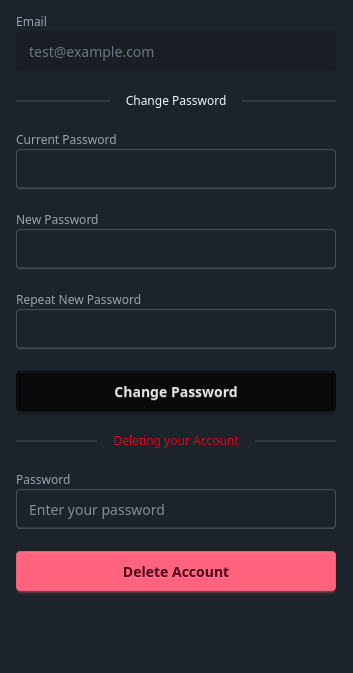
Test case: AccountPage › displays error when deleting account without password
(page scrolled)
Click the button "Delete Account".
click(176, 571)  # box [16, 551, 336, 591]
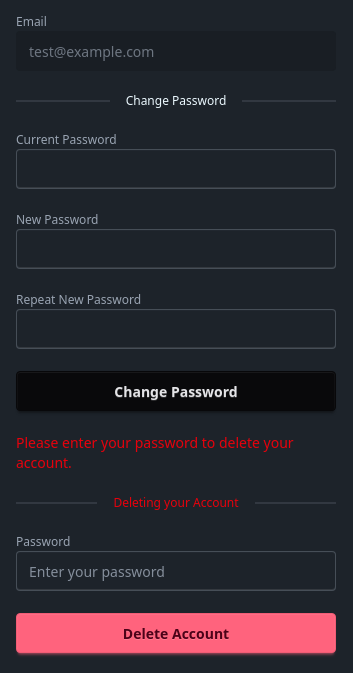
Check: the text "Please enter your password to delete your account." is shown, box [16, 433, 336, 473]
